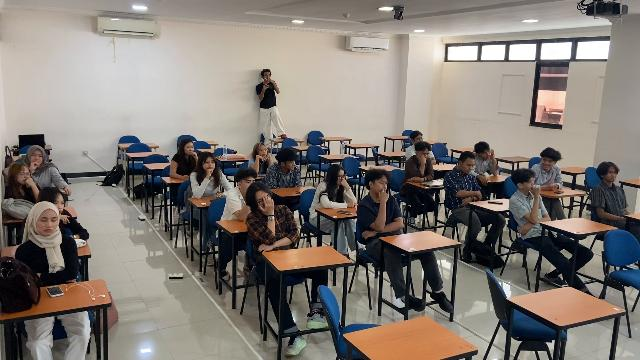bingung: (39, 213, 58, 235), (17, 167, 30, 184), (377, 178, 387, 196), (31, 151, 43, 165), (203, 159, 215, 171), (608, 166, 617, 182), (464, 160, 474, 174), (526, 179, 535, 192), (338, 171, 346, 185), (185, 143, 194, 154), (258, 146, 267, 156), (419, 151, 429, 160), (415, 136, 423, 143)
